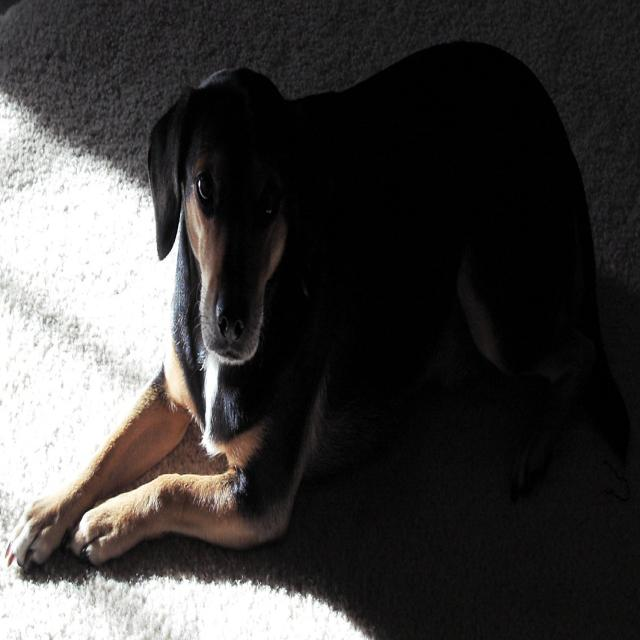Dog: (119, 8, 567, 598)
